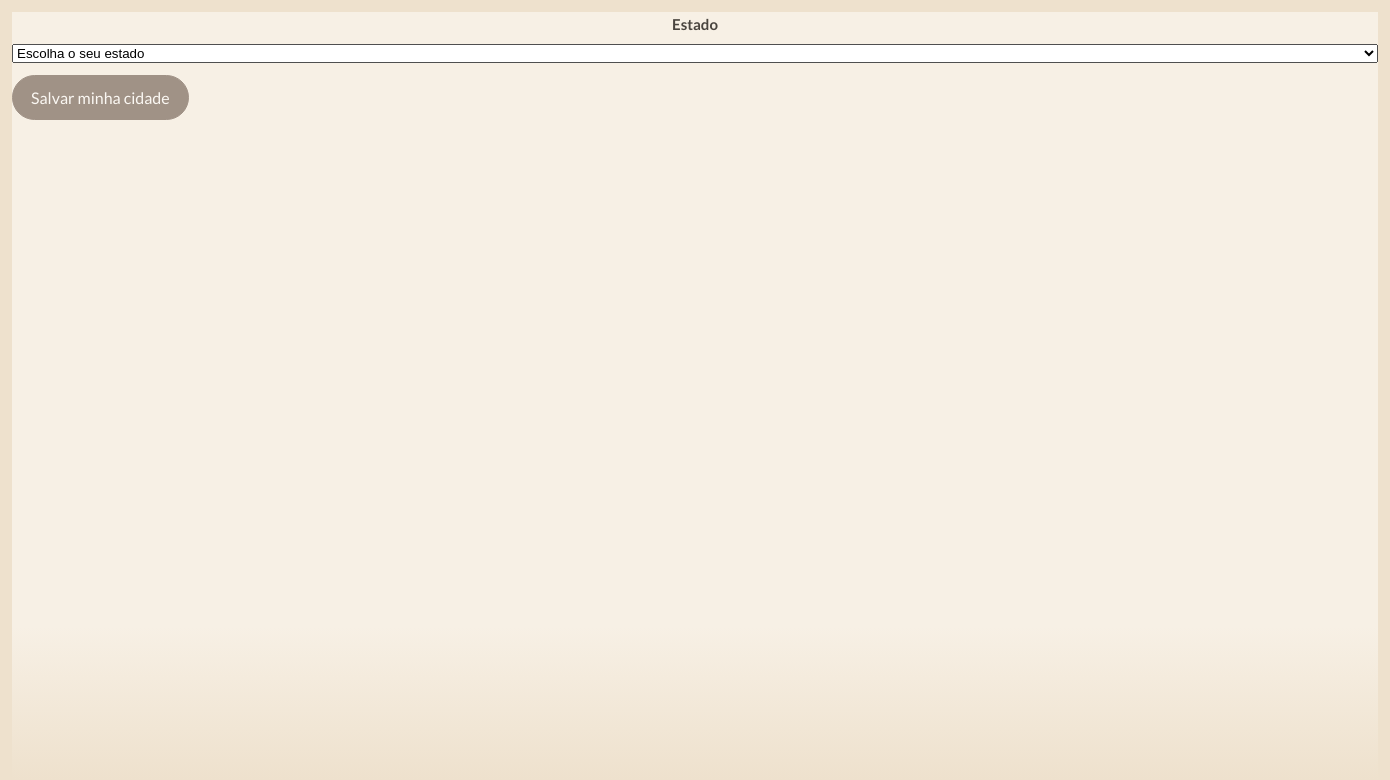
Test: CityPicker › busca dentro da lista e confirma com estado e cidade
The image size is (1390, 780).
Later steps or results of the test are not shown.
Select "Rio Grande do Sul" in the dropdown labelled "Estado" at (695, 53), box [12, 44, 1378, 62]
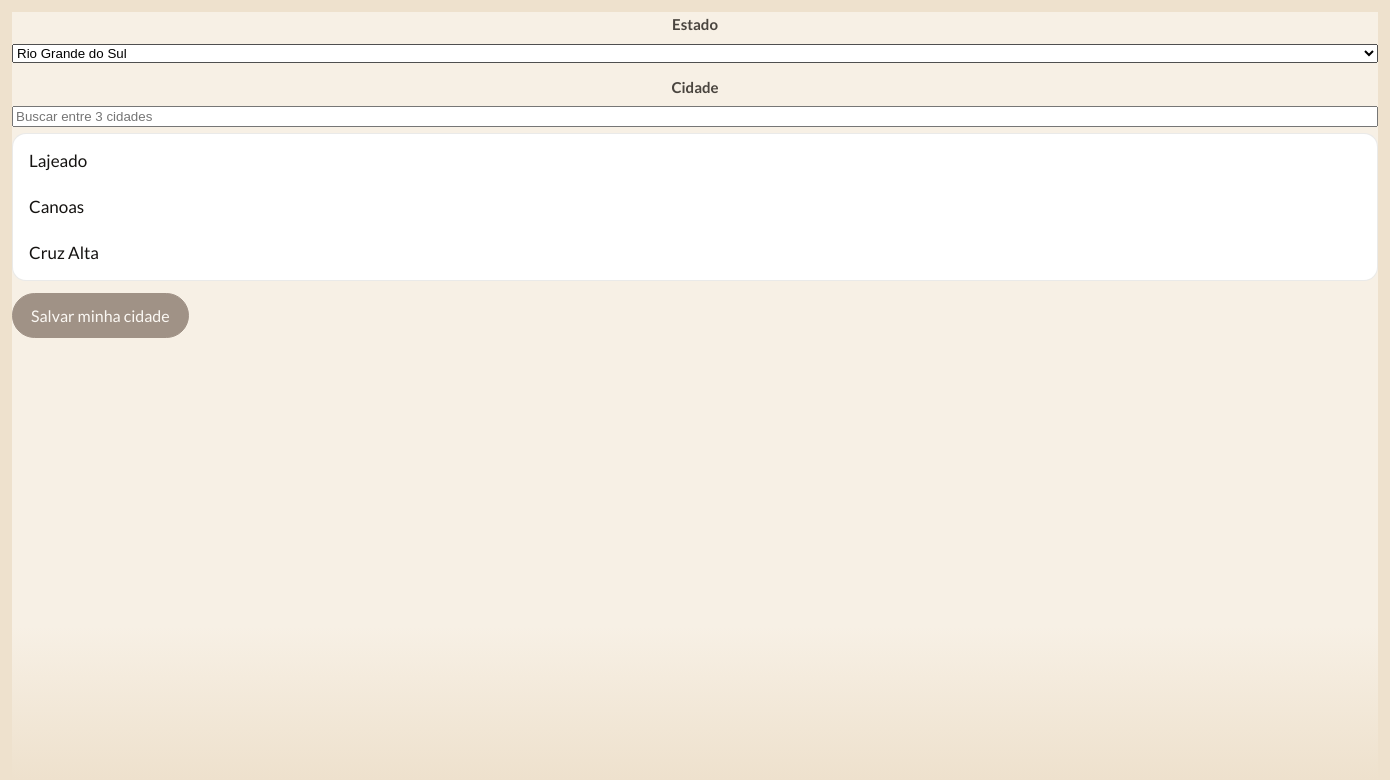
Type "cruz" into the search field named "Buscar cidade" at (695, 116), box [12, 106, 1378, 127]
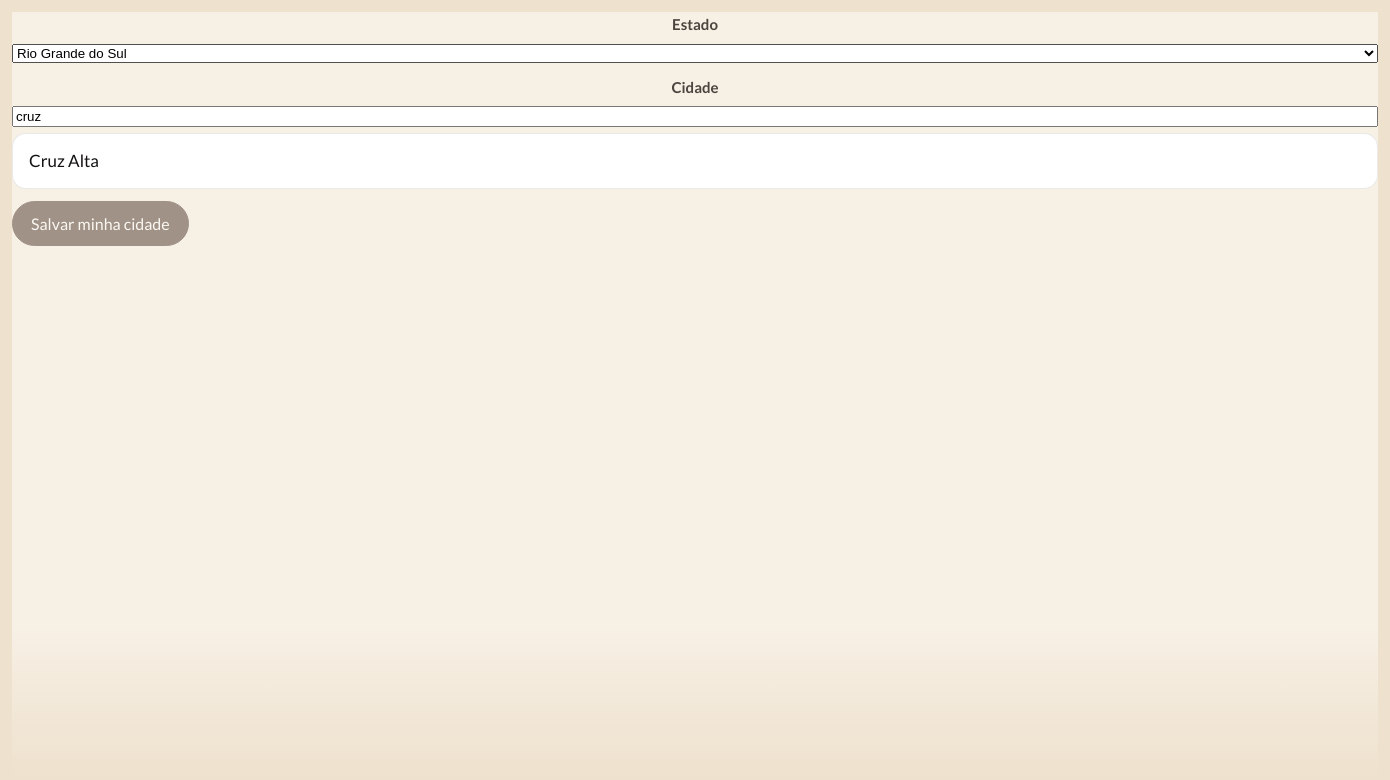
Expected: the button "Lajeado" is gone
